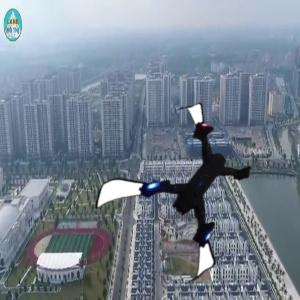drone: (112, 122, 267, 277)
